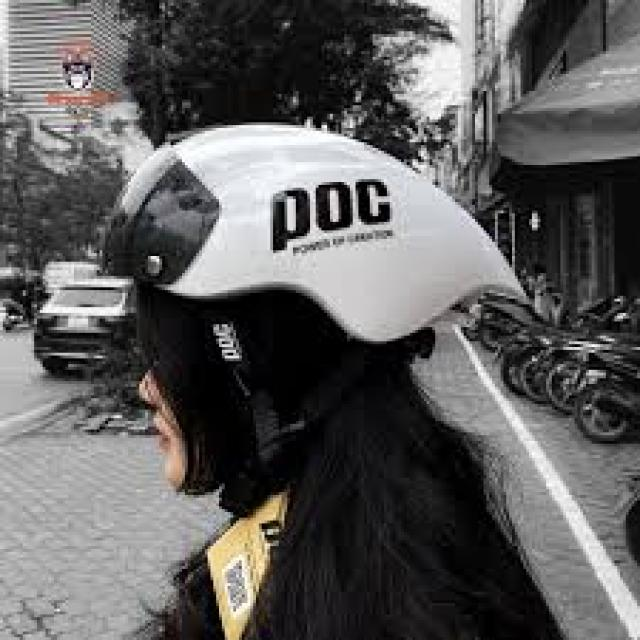helmet: (96, 123, 532, 344)
